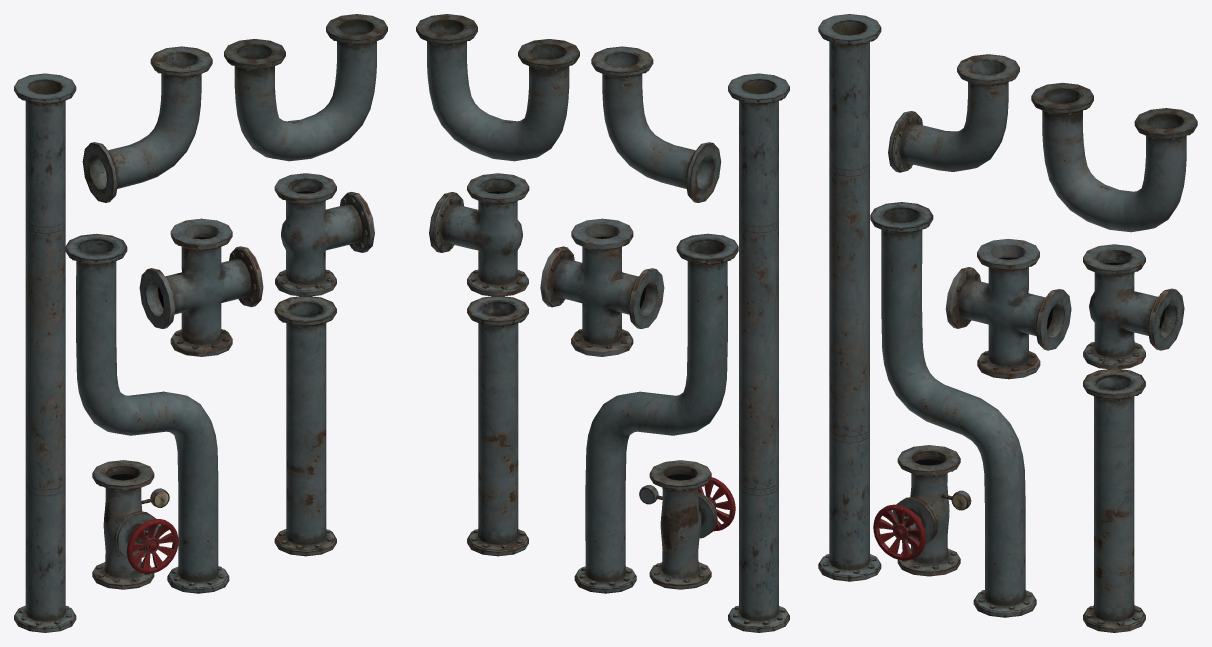
Rendered from pipe-kit.glb.
3 views of the same model, side by side, from view 1: azimuth 30°, elevation 25°; view 2: azimuth 150°, elevation 25°; view 3: azimuth 330°, elevation 25° (orthographic).
Visible parts, largest first — view 1: StaticAssembly; view 2: StaticAssembly; view 3: StaticAssembly.
Boxes of the visible parts, <box> form: StaticAssembly: <box>14,14,387,632</box>; StaticAssembly: <box>416,14,789,632</box>; StaticAssembly: <box>818,14,1197,632</box>.
Size of the model in its own units: 1.4 by 1.95 by 0.3076.
2 materials, 2 textured.
